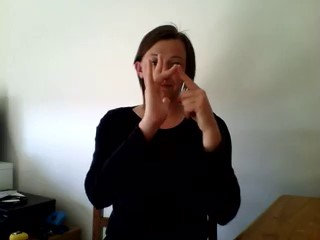O: (139, 53, 217, 130)
